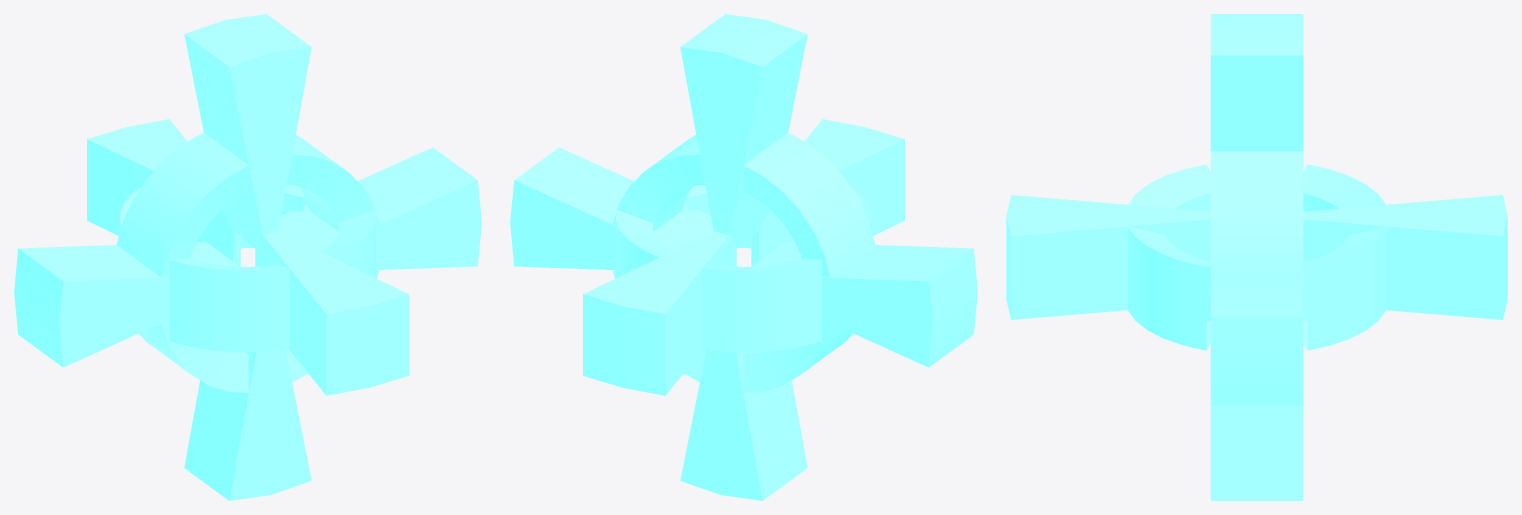
The model's file is TeleportParticles.fbx.
The picture shows the model from 3 angles, left to right: view 1: azimuth 30°, elevation 25°; view 2: azimuth 150°, elevation 25°; view 3: azimuth 270°, elevation 25°; orthographic projection. The views are drawn at different scales.
Parts seen in each view (by area): view 1: TeleportRingParticle; view 2: TeleportRingParticle; view 3: TeleportRingParticle.
Boxes of the visible parts, x1=… form: TeleportRingParticle: x1=14, y1=14, x2=481, y2=500; TeleportRingParticle: x1=510, y1=14, x2=977, y2=500; TeleportRingParticle: x1=1006, y1=14, x2=1507, y2=500.
Bounding box in the file's own units: 37.66 × 37.66 × 37.66.
